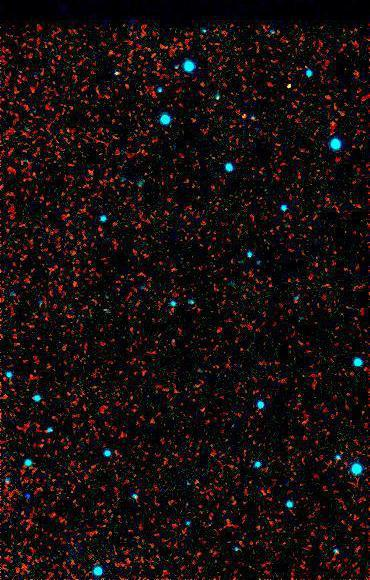star: (273, 72, 303, 102)
